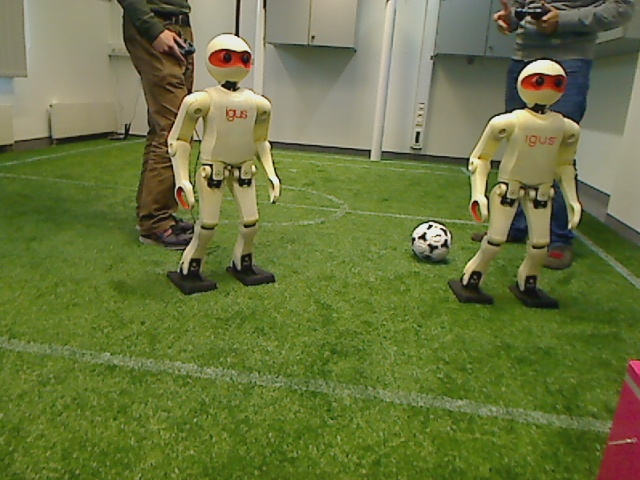ball: (409, 217, 455, 268)
robot: (459, 57, 584, 313), (166, 31, 286, 297)
